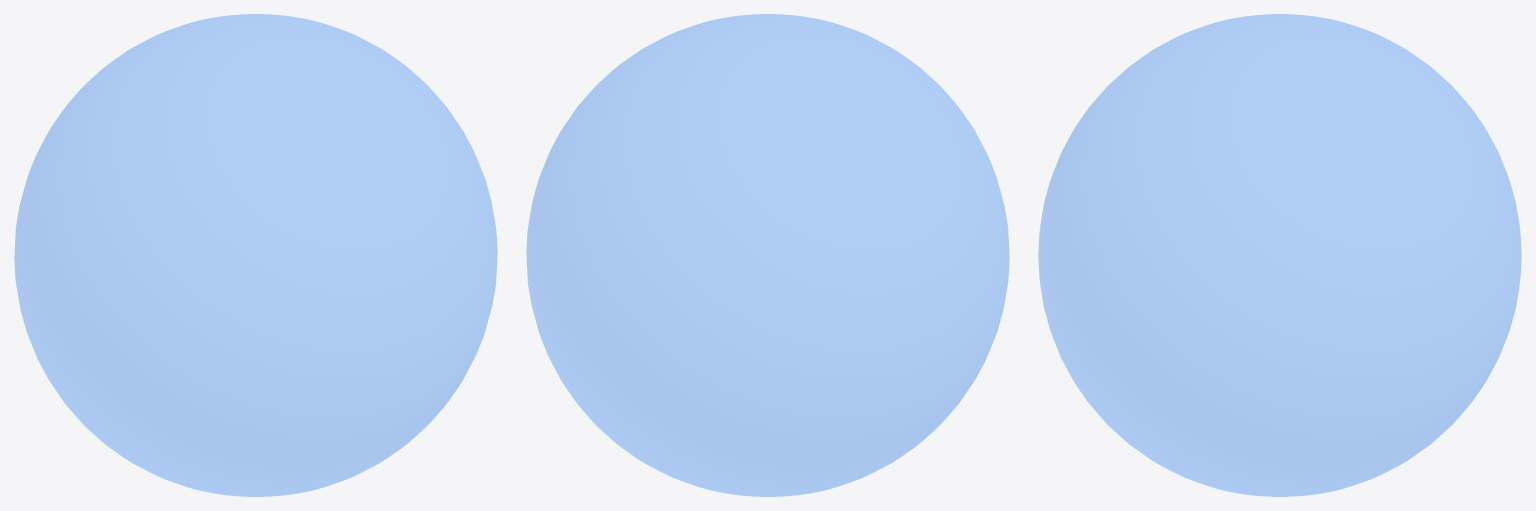
Rendered from planet.glb.
The picture shows the model from 3 angles, left to right: view 1: azimuth 30°, elevation 25°; view 2: azimuth 150°, elevation 25°; view 3: azimuth 270°, elevation 25°; orthographic projection.
Visible parts, largest first — view 1: Atmosphere; view 2: Atmosphere; view 3: Atmosphere.
Part boxes in pixels (left/top/right/bottom): Atmosphere: left=14, top=14, right=497, bottom=496; Atmosphere: left=526, top=14, right=1009, bottom=496; Atmosphere: left=1038, top=14, right=1521, bottom=496.
Size of the model in its own units: 10.8 by 10.8 by 10.8.
